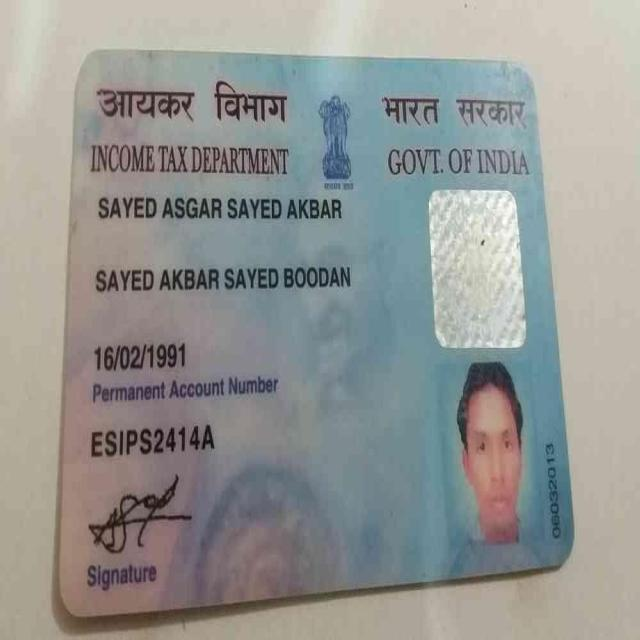pan_card: (64, 59, 573, 608)
